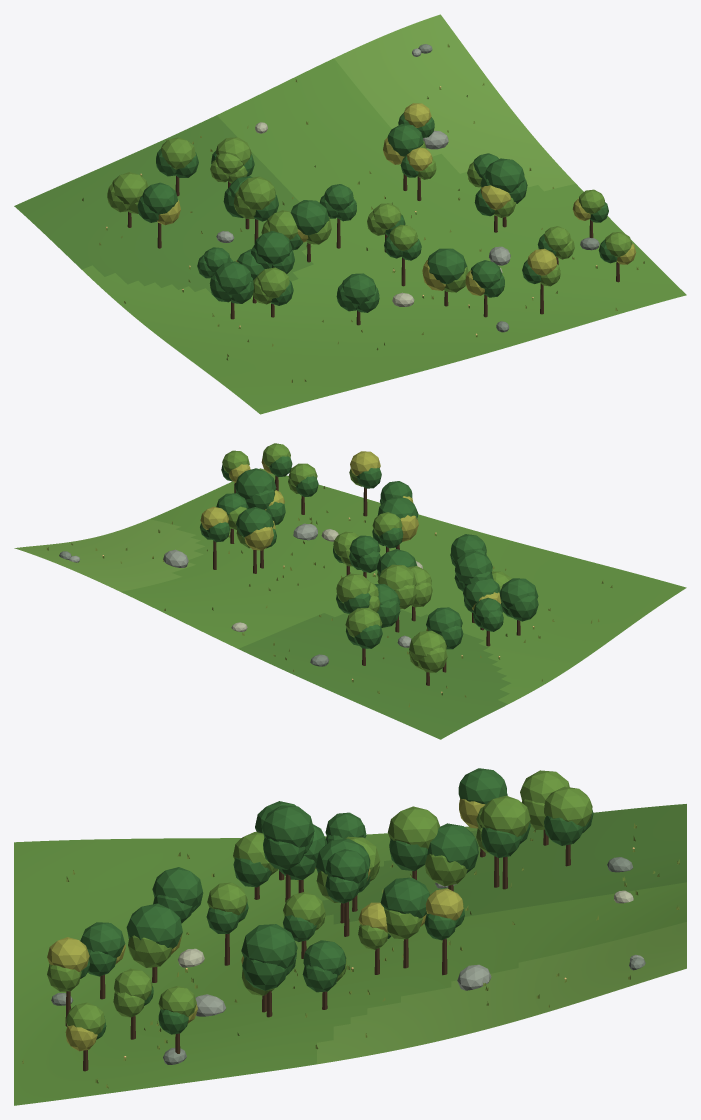
The model's file is Chunk_X2_Y0_Z-3.fbx.
The picture shows the model from 3 angles, top to bottom: view 1: azimuth 30°, elevation 25°; view 2: azimuth 150°, elevation 25°; view 3: azimuth 270°, elevation 25°; orthographic projection. The views are drawn at different scales.
Visible parts, largest first — view 1: Terrain.035, Canopies.034, Rocks.035, Trunks.034; view 2: Terrain.035, Canopies.034, Rocks.035, Trunks.034, GroundCover.035; view 3: Terrain.035, Canopies.034, Trunks.034, Rocks.035, GroundCover.035.
Part boxes in pixels (x1,y1,x2,y2): Terrain.035: (14, 14, 686, 414); Canopies.034: (107, 103, 636, 312); Rocks.035: (216, 44, 599, 332); Trunks.034: (127, 174, 619, 325); Terrain.035: (14, 468, 686, 739); Canopies.034: (200, 443, 538, 672); Rocks.035: (59, 523, 422, 666); Trunks.034: (213, 476, 520, 685); GroundCover.035: (46, 486, 612, 707); Terrain.035: (14, 804, 686, 1105); Canopies.034: (47, 768, 593, 1051); Trunks.034: (65, 829, 570, 1071); Rocks.035: (51, 857, 645, 1064); GroundCover.035: (22, 823, 679, 1088).
Size of the model in its own units: 100 by 26.5 by 100.
